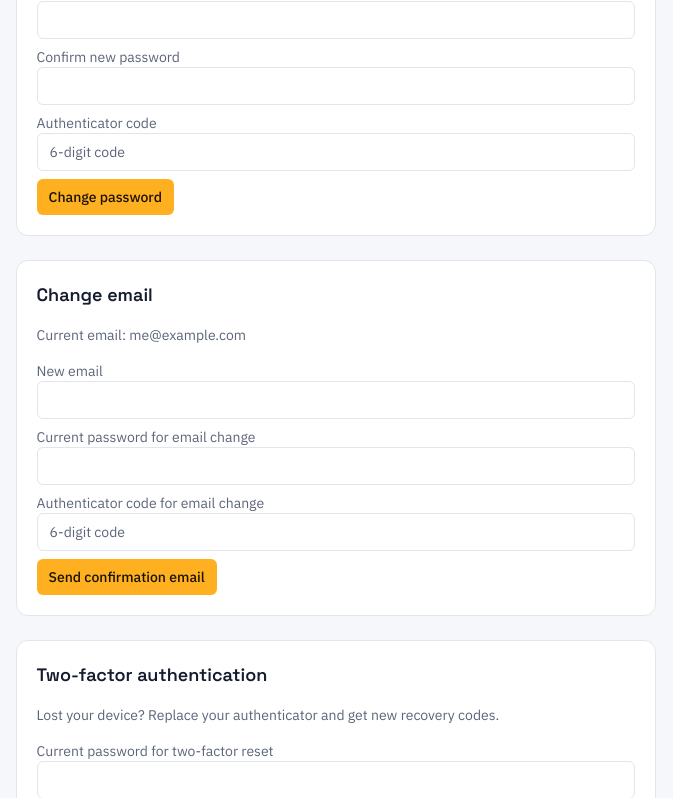
Test case: AccountPage › requests an email change when current password and TOTP code are correct
(page scrolled)
Type "new@example.com" into the field labelled "New email" at [336, 400], box [36, 381, 634, 419]
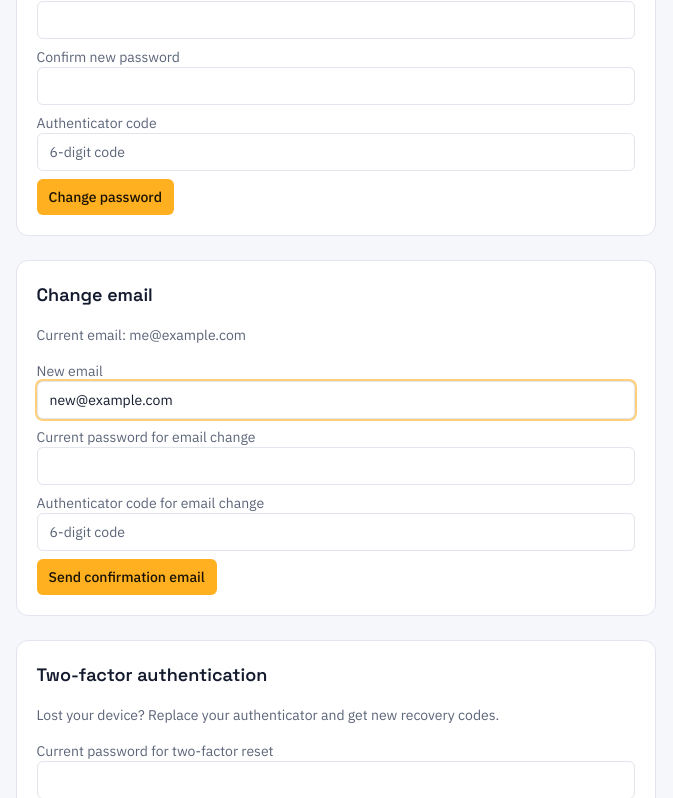
Type "old-password" into the password field labelled "Current password for email change" at [336, 466], box [36, 447, 634, 485]
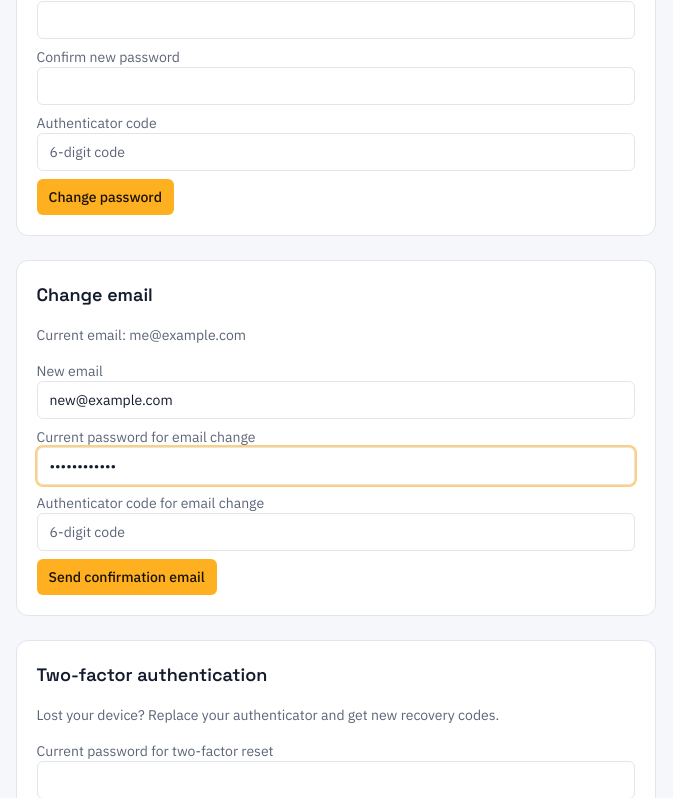
Type "123456" into the field labelled "Authenticator code for email change" at [336, 532], box [36, 513, 634, 551]
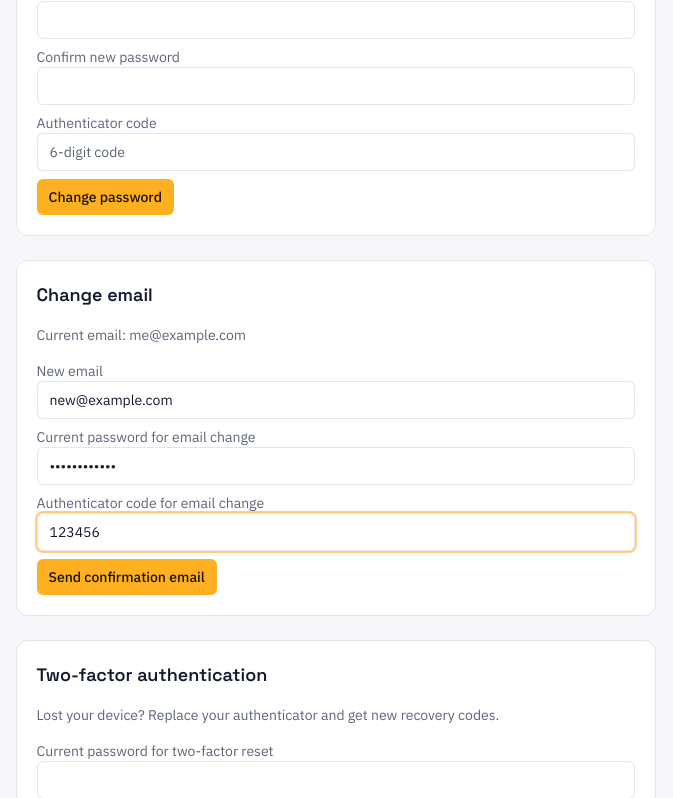
Click the button "Send confirmation email" at [127, 577], box [36, 559, 217, 595]
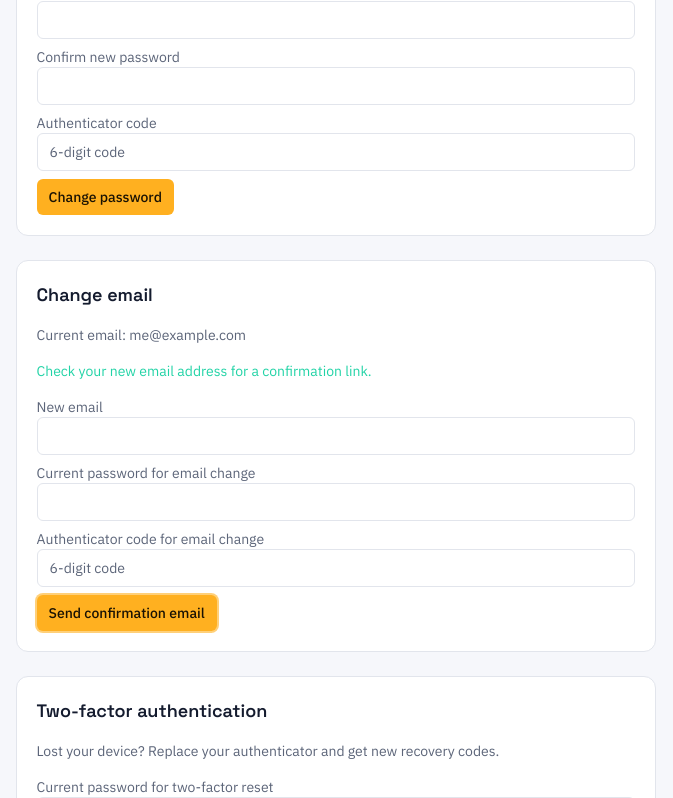
Now the text "Check your new email address for a confirmation link." is shown, box [36, 362, 372, 380]
